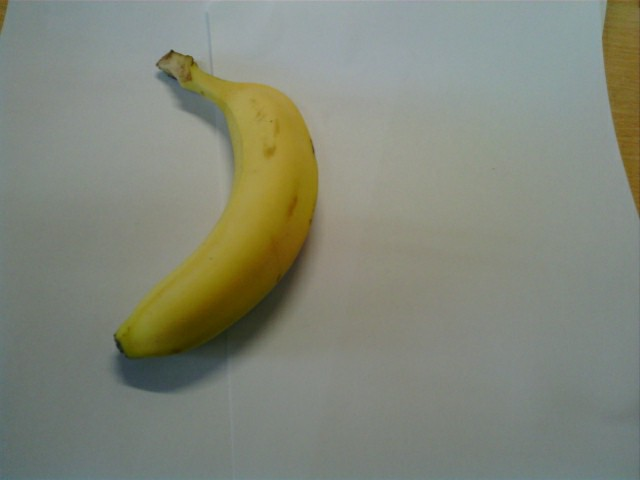fresh_banana: (117, 69, 319, 361)
